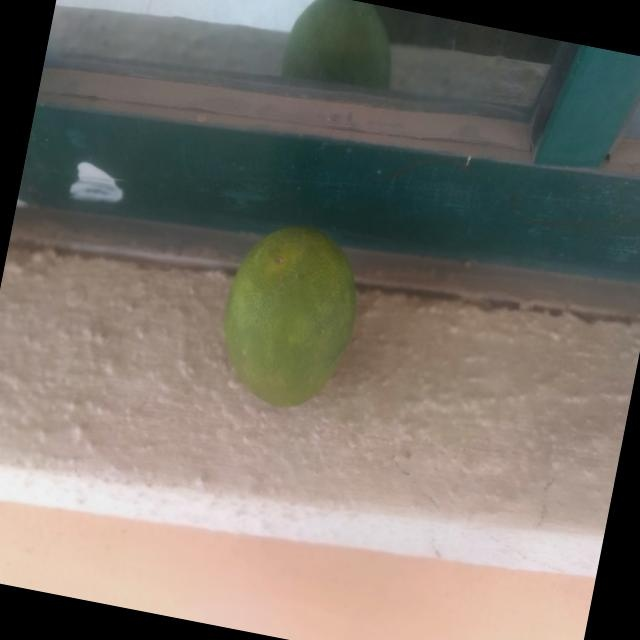agrume: (171, 160, 385, 463)
